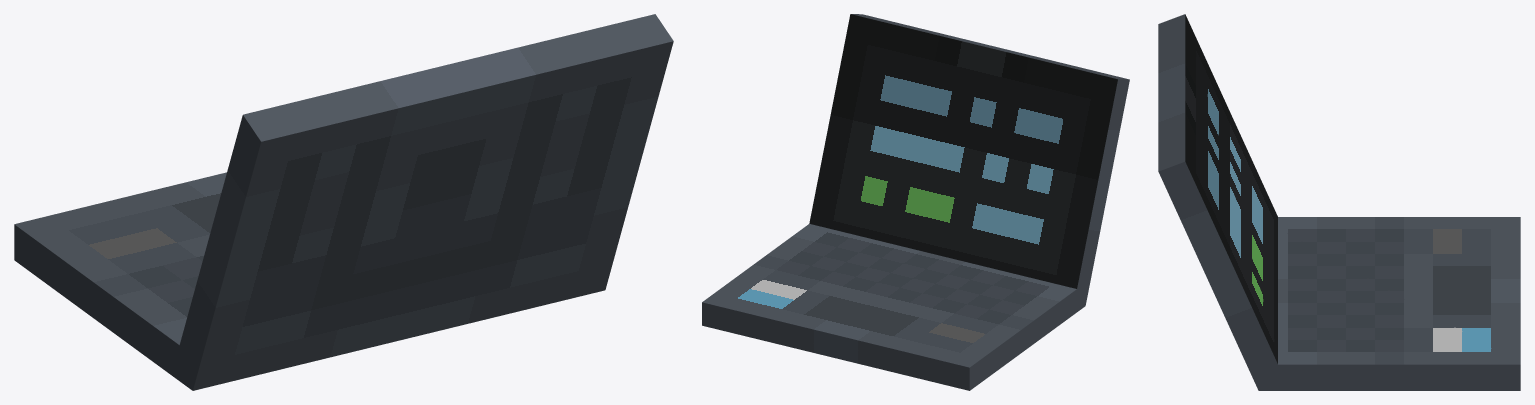
Rendered from laptop.gltf.
The picture shows the model from 3 angles, left to right: view 1: azimuth 30°, elevation 25°; view 2: azimuth 150°, elevation 25°; view 3: azimuth 270°, elevation 25°; orthographic projection. The views are drawn at different scales.
Visible parts, largest first — view 1: bone (×2); view 2: bone (×2); view 3: bone (×2).
Boxes of the visible parts, x1,y1,x2,y2 form: bone (×2): (14,14,673,390); bone (×2): (702,14,1129,390); bone (×2): (1158,14,1520,390).
Bounding box in the file's own units: 0.75 × 0.5436 × 0.7778.
Materials: 1 (1 with a texture image).
